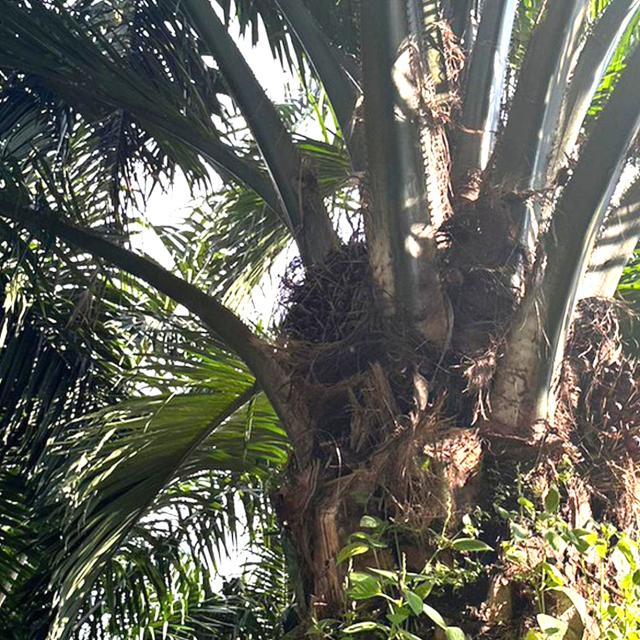unripe: (260, 230, 398, 384)
